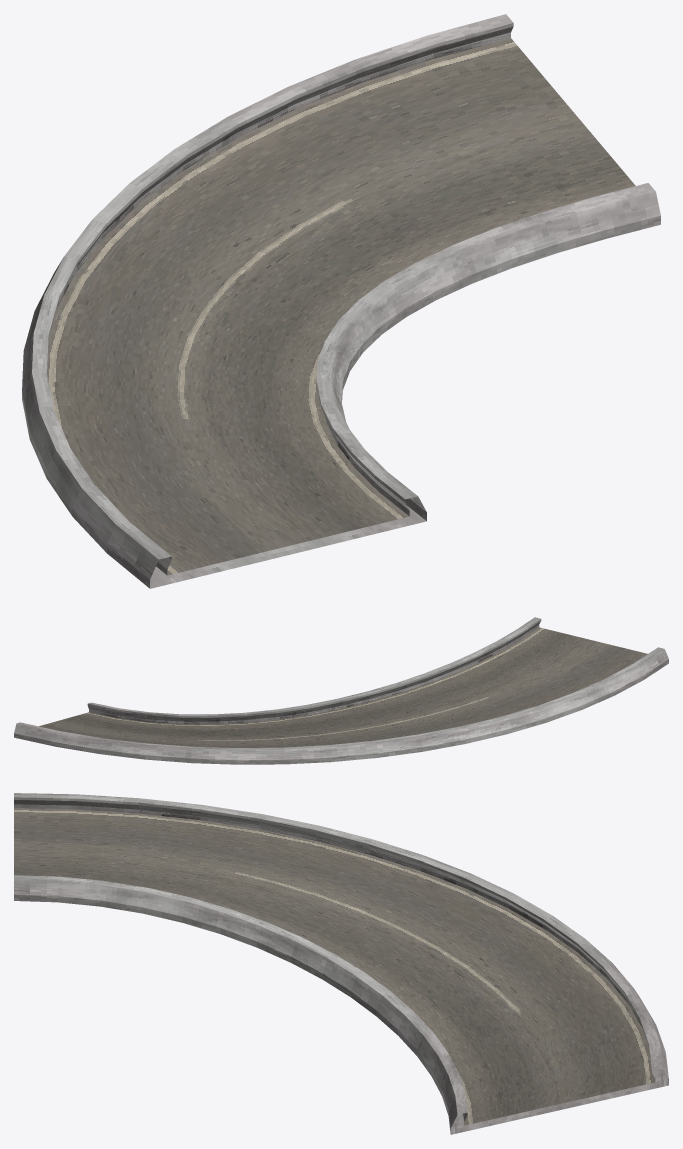
Rendered from turn-right3x3.glb.
3 renders of one model, top to bottom at view 1: azimuth 30°, elevation 25°; view 2: azimuth 150°, elevation 25°; view 3: azimuth 270°, elevation 25°, orthographic. The views are drawn at different scales.
Visible parts, largest first — view 1: road-Turn-Flat-HalfBankedRight-Down1-Right-Size3; view 2: road-Turn-Flat-HalfBankedRight-Down1-Right-Size3; view 3: road-Turn-Flat-HalfBankedRight-Down1-Right-Size3.
Part boxes in pixels (left/top/right/bottom): road-Turn-Flat-HalfBankedRight-Down1-Right-Size3: left=22, top=14, right=660, bottom=588; road-Turn-Flat-HalfBankedRight-Down1-Right-Size3: left=14, top=617, right=668, bottom=764; road-Turn-Flat-HalfBankedRight-Down1-Right-Size3: left=14, top=793, right=668, bottom=1134.
Bounding box in the file's own units: 3 × 0.3438 × 3.
Materials: 2 (2 with a texture image).
